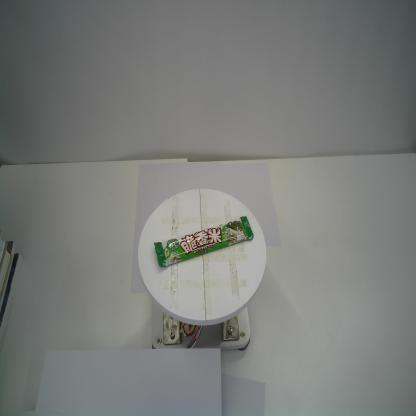Chocolate: (152, 214, 254, 269)
